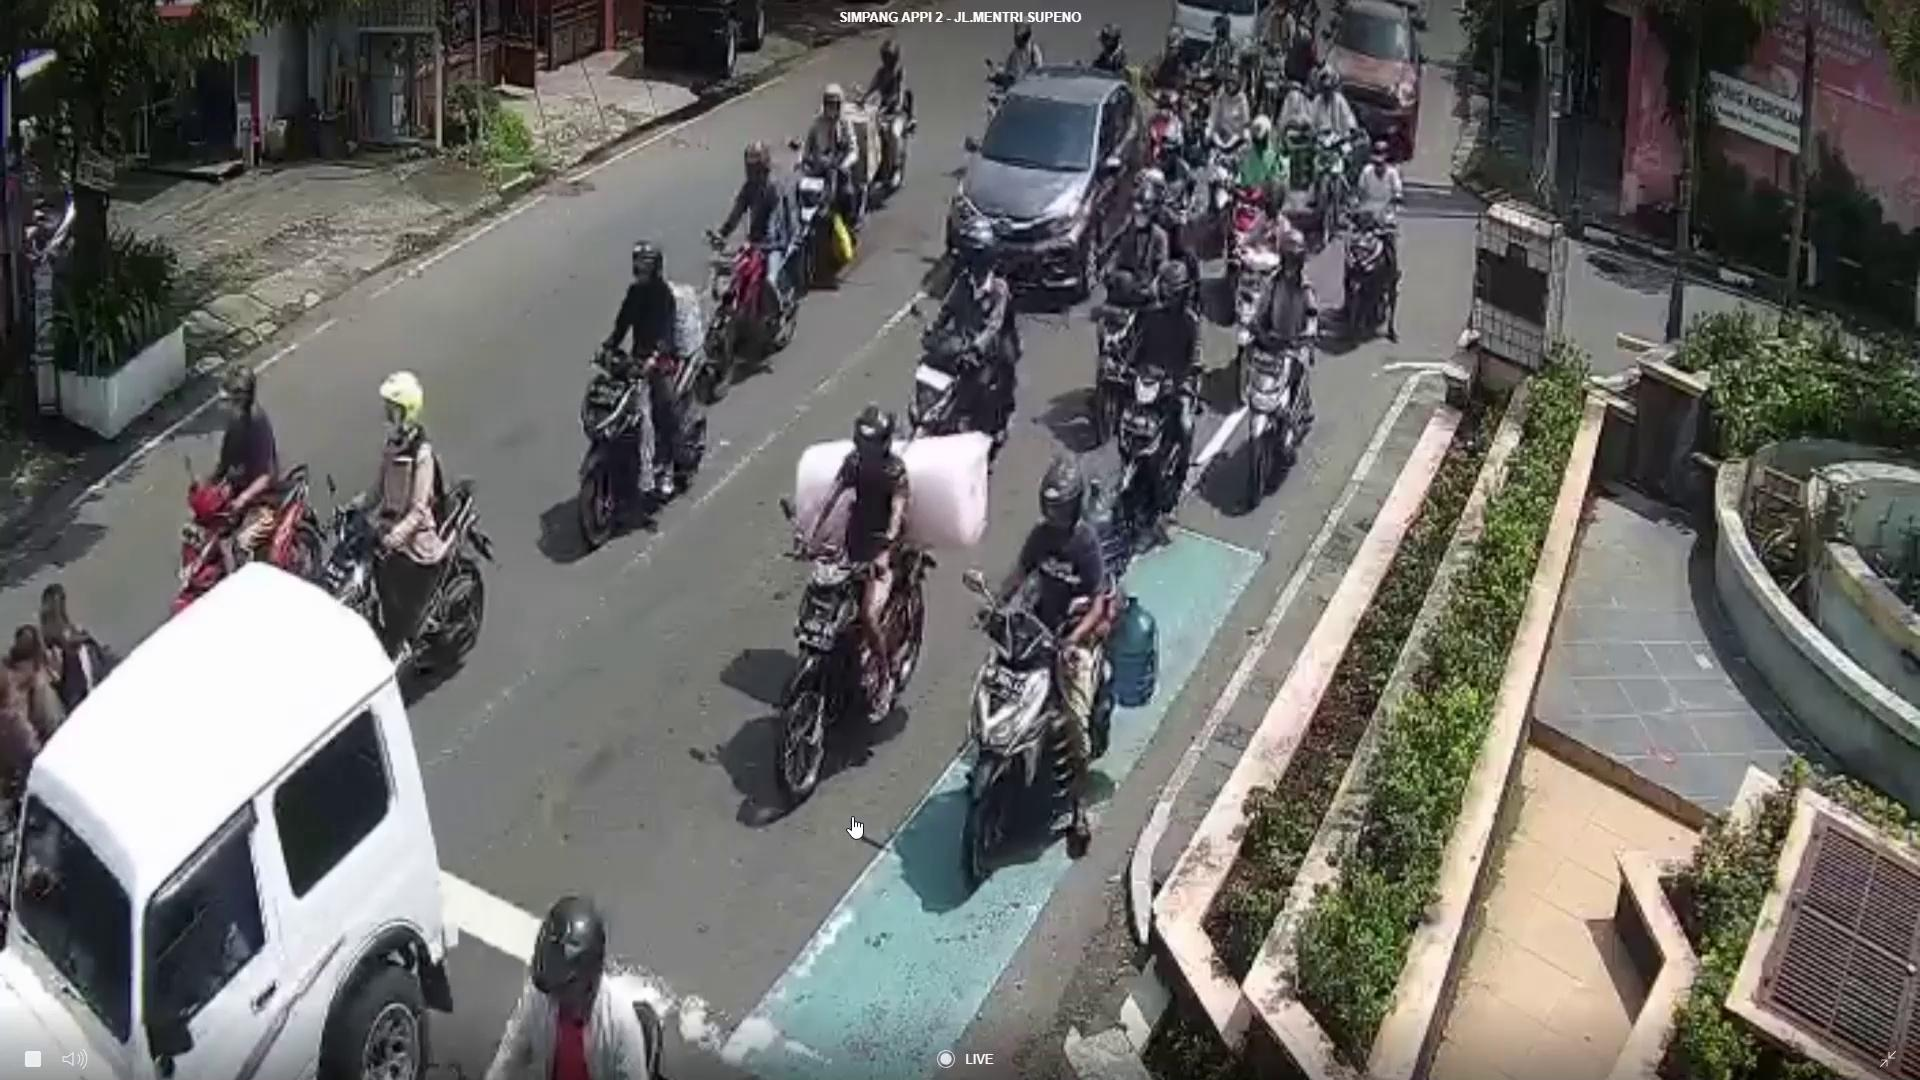car: (0, 560, 455, 1080), (951, 63, 1149, 298), (1320, 0, 1419, 157)
motorbike: (773, 549, 916, 807), (327, 476, 497, 663), (575, 345, 712, 551), (975, 600, 1062, 905), (169, 462, 322, 593), (705, 235, 807, 388), (1240, 323, 1312, 508), (1114, 359, 1191, 529), (902, 318, 1010, 438), (1344, 207, 1391, 340)
